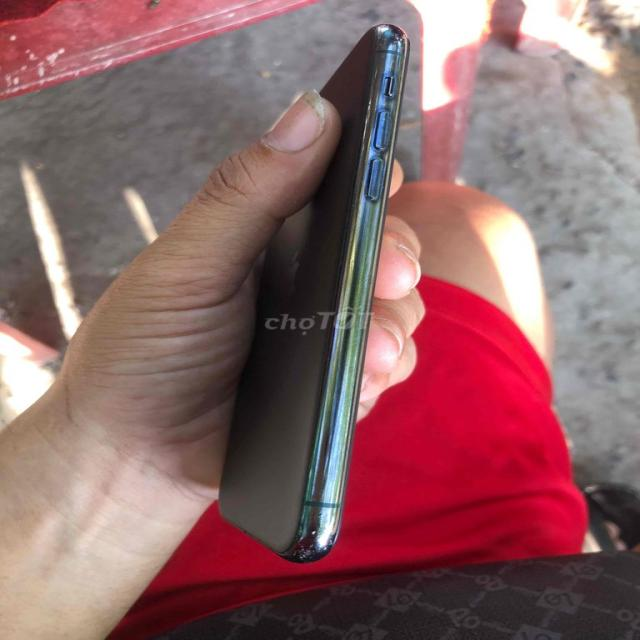gen_11: (208, 15, 413, 582)
